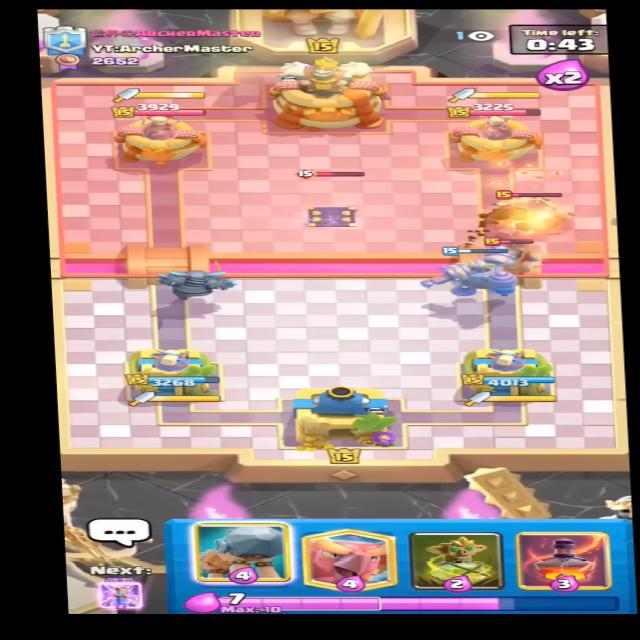evo-tesla-closed: (283, 167, 376, 229)
knight: (473, 233, 548, 274)
x-bow: (478, 186, 581, 241)
